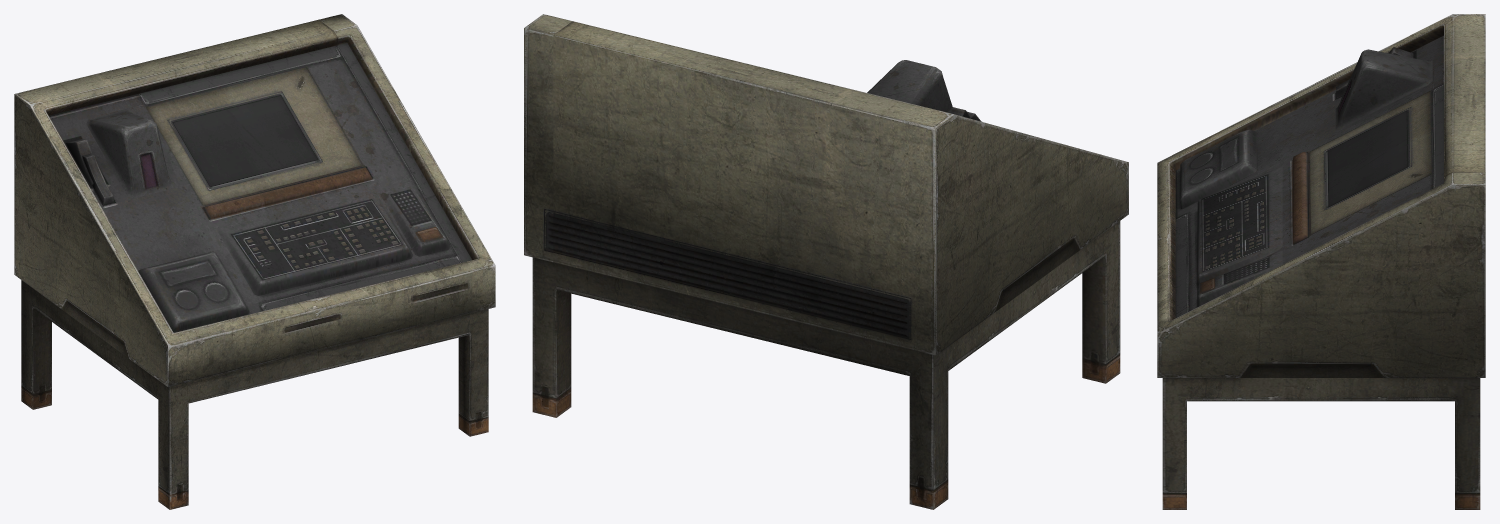
Rendered from computer_table_small.dae.
3 views of the same model, side by side, from view 1: azimuth 30°, elevation 25°; view 2: azimuth 150°, elevation 25°; view 3: azimuth 270°, elevation 25° (orthographic). The views are drawn at different scales.
Visible parts, largest first — view 1: small; view 2: small; view 3: small.
Part boxes in pixels (x1,y1,x2,y2): small: [14, 14, 495, 509]; small: [524, 14, 1128, 509]; small: [1157, 14, 1485, 509].
Bounding box in the file's own units: 1.54 × 1.38 × 1.25.
